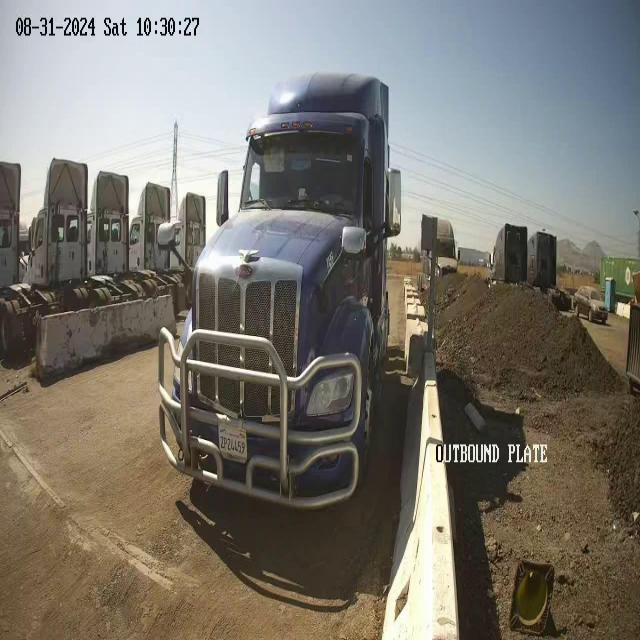BOBTAIL: (156, 69, 402, 513)
